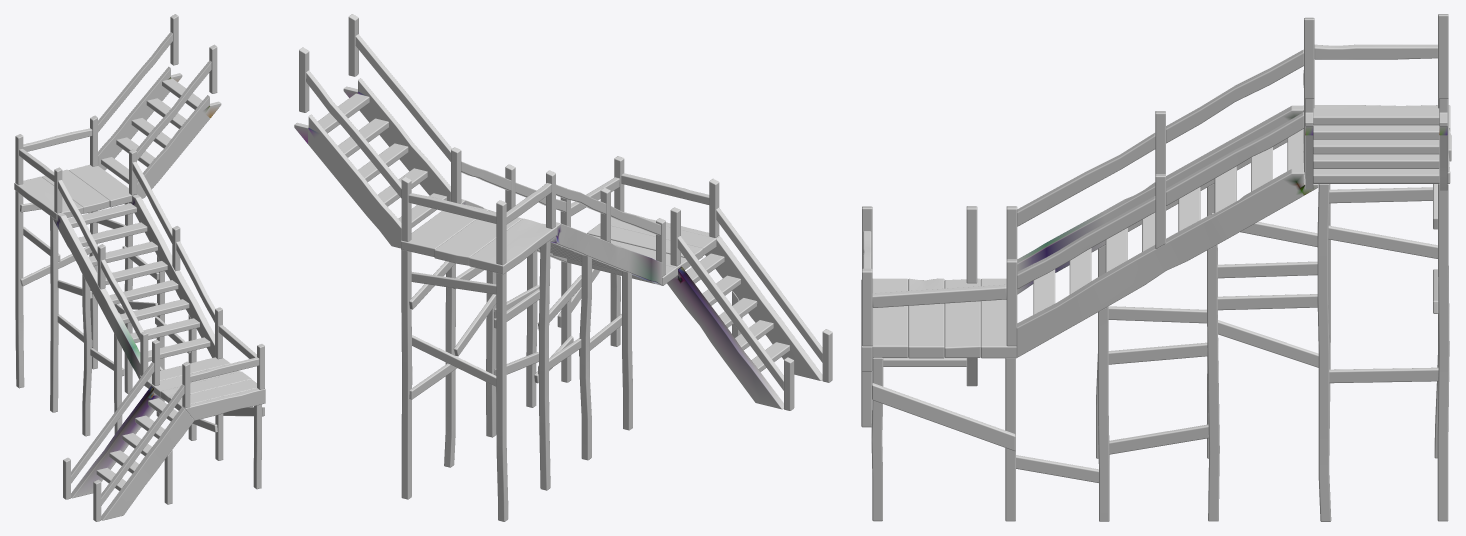
File: stylized_bifurcated_wood_staircase.fbx
3 renders of one model, left to right at view 1: azimuth 30°, elevation 25°; view 2: azimuth 150°, elevation 25°; view 3: azimuth 270°, elevation 25°, orthographic. The views are drawn at different scales.
Parts seen in each view (by area): view 1: structure_003_mesh, structure_002_mesh, structure_006_mesh, structure_007_mesh, structure_004_mesh, support_024_mesh, support_001_mesh, structure_005_mesh, structure_001_mesh, support_006_mesh, plank_007_mesh, plank_002_mesh (+54 smaller); view 2: structure_004_mesh, structure_005_mesh, structure_003_mesh, support_001_mesh, support_023_mesh, support_024_mesh, structure_002_mesh, structure_007_mesh, plank_002_mesh, support_006_mesh, support_025_mesh, railing_010_mesh (+26 smaller); view 3: structure_006_mesh, structure_002_mesh, support_025_mesh, support_023_mesh, support_014_mesh, support_005_mesh, railing_009_mesh, railing_011_mesh, railing_005_mesh, plank_004_mesh, plank_005_mesh, railing_007_mesh (+39 smaller).
Part boxes in pixels (box(x1,y1,x2,y2)): structure_003_mesh: box(101, 407, 194, 520); structure_002_mesh: box(53, 213, 140, 379); structure_006_mesh: box(129, 194, 214, 357); structure_007_mesh: box(137, 95, 221, 198); structure_004_mesh: box(71, 386, 162, 498); support_024_mesh: box(50, 216, 58, 412); support_001_mesh: box(15, 190, 24, 388); structure_005_mesh: box(98, 66, 182, 170); structure_001_mesh: box(182, 388, 265, 420); support_006_mesh: box(82, 274, 91, 436); plank_007_mesh: box(69, 164, 135, 207); plank_002_mesh: box(14, 176, 83, 220); structure_004_mesh: box(667, 266, 783, 409); structure_005_mesh: box(294, 114, 401, 248); structure_003_mesh: box(705, 236, 822, 380); support_001_mesh: box(496, 272, 508, 521); support_023_mesh: box(401, 249, 412, 499); support_024_mesh: box(539, 240, 550, 490); structure_002_mesh: box(550, 222, 662, 285); structure_007_mesh: box(343, 78, 450, 201); plank_002_mesh: box(469, 218, 556, 274); support_006_mesh: box(579, 255, 591, 460); support_025_mesh: box(444, 263, 455, 467); railing_010_mesh: box(716, 208, 822, 362); structure_006_mesh: box(1016, 169, 1318, 357); structure_002_mesh: box(1017, 105, 1303, 294); support_025_mesh: box(1317, 184, 1331, 521); support_023_mesh: box(1437, 184, 1449, 521); support_014_mesh: box(1207, 244, 1219, 521); support_005_mesh: box(872, 383, 1015, 450); railing_009_mesh: box(1166, 112, 1303, 205); railing_011_mesh: box(1017, 196, 1155, 289); railing_005_mesh: box(1166, 49, 1303, 143); plank_004_mesh: box(908, 278, 944, 358); plank_005_mesh: box(872, 278, 908, 357); railing_007_mesh: box(1017, 133, 1155, 226).
Bounding box in the file's own units: 440 × 551 × 514.
